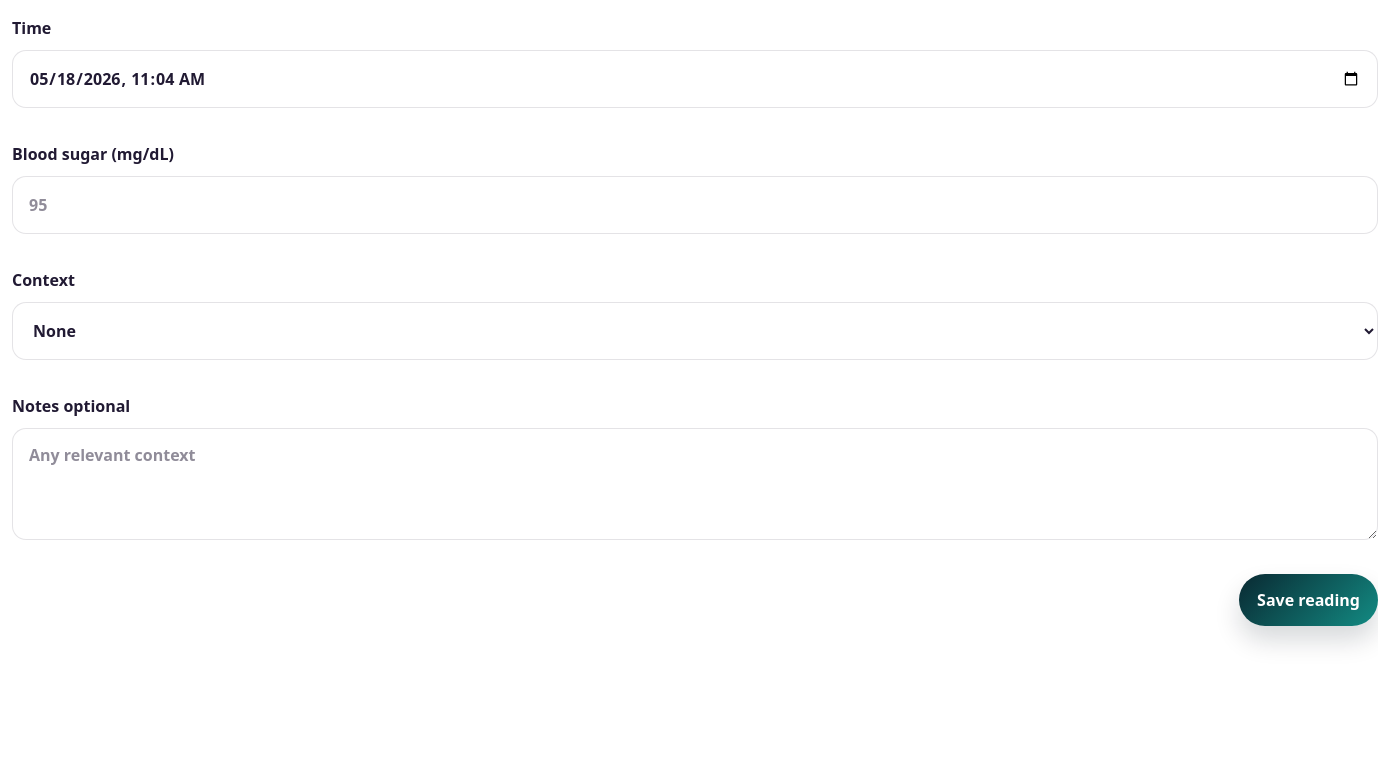
Test: AddBloodSugarForm › shows validation error when reading is missing
The width and height of the screenshot is (1390, 768).
What coordinates should you click on to do the following:
click the button "Save reading"
I would click on:
 (1309, 600)
Its box is x1=1239 y1=574 x2=1378 y2=626.
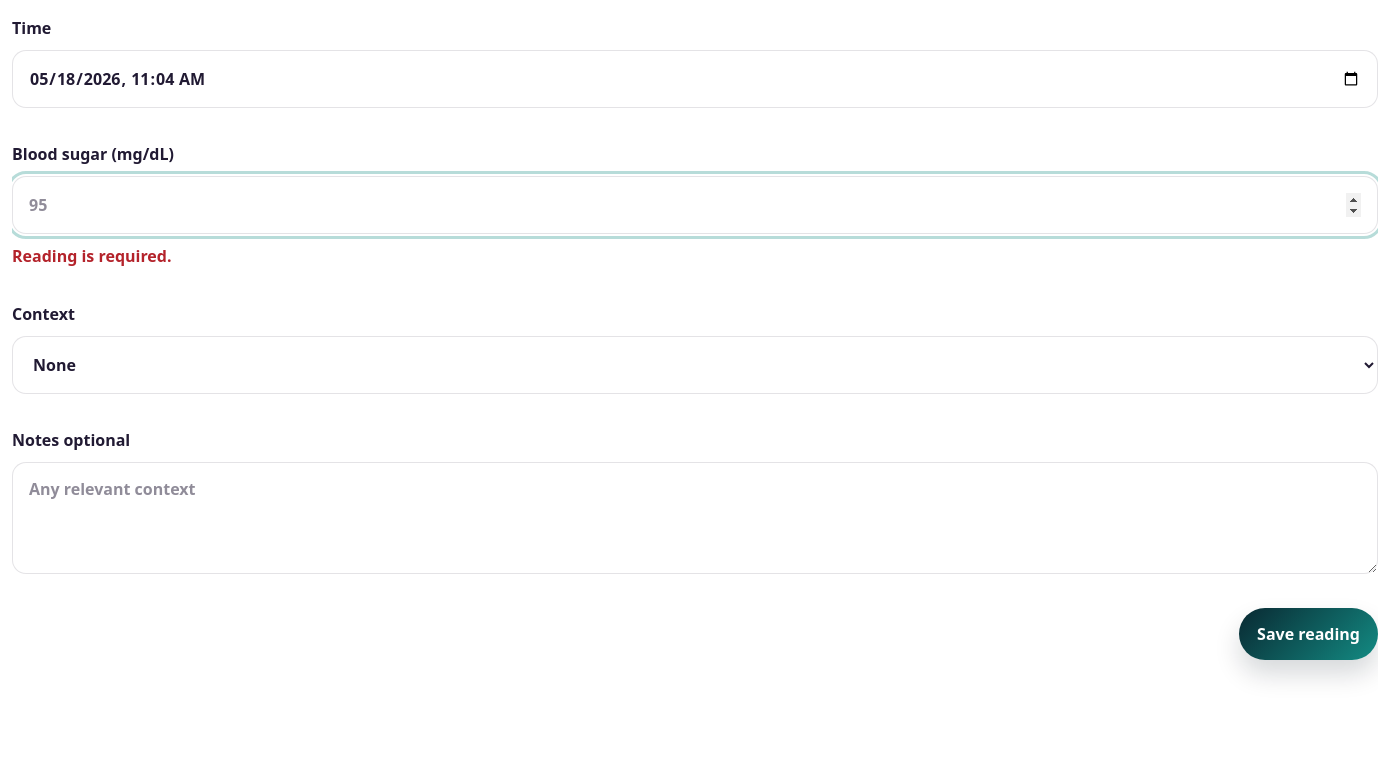
expect the text "Reading is required." is shown: met, box x1=12 y1=245 x2=172 y2=267
